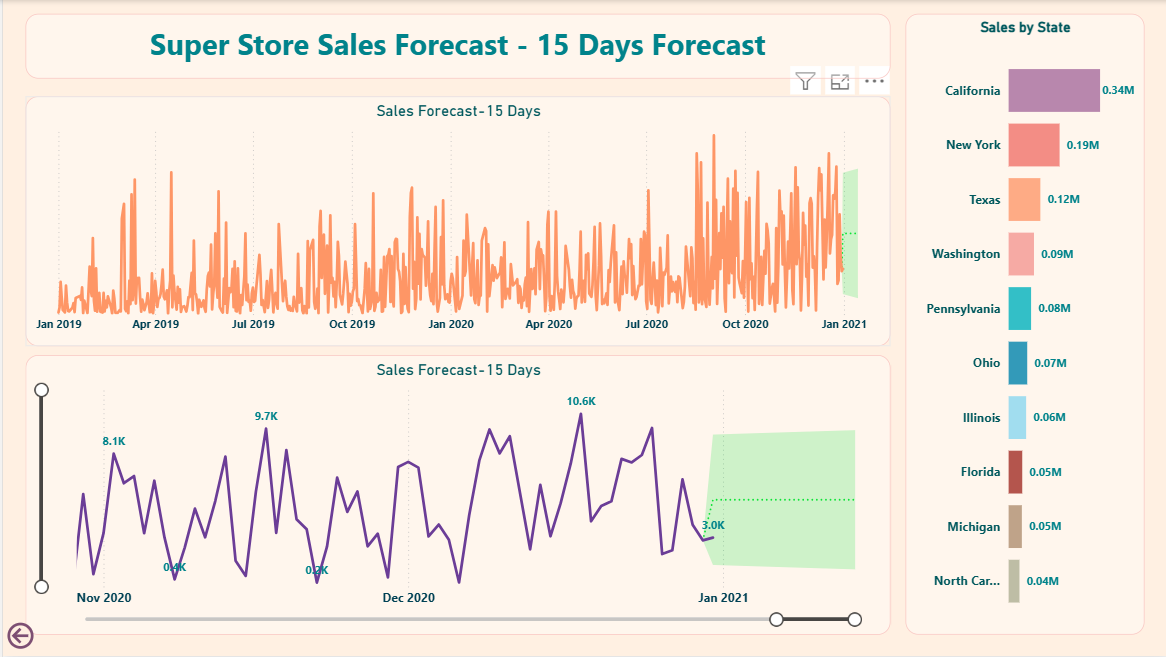

The page's visual inventory and layout, read from the dashboard file:
{"tool":"powerbi","page":{"name":"Page 2","canvas":[1280,720],"ordinal":1},"visuals":[{"type":"lineChart","title":"Sales Forecast-15 Days","fields":{"Y":["Sum(Sheet1.Sales)"],"Category":["Sheet1.Order Date"]},"box":[24.7,105.7,949.6,274.4],"z":0},{"type":"lineChart","title":"Sales Forecast-15 Days","fields":{"Y":["Sum(Sheet1.Sales)"],"Category":["Sheet1.Order Date"]},"box":[24.7,389.7,949.6,307.4],"z":1000},{"type":"clusteredBarChart","title":"Sales by State","fields":{"Category":["Sheet1.State"],"Y":["Sum(Sheet1.Sales)"]},"box":[990.7,15.1,262.1,682],"z":2000},{"type":"textbox","box":[24.7,15.1,949.6,71.4],"z":3000},{"type":"actionButton","box":[0,677.9,38.4,39.8],"z":4000}]}

Visuals, with their boxes in screenshot pixels (x1, y1, x2, y2), scaled from the page's 1280x720 canvas onto the 1166x657 screenshot:
"Sales Forecast-15 Days" lineChart: x1=23 y1=96 x2=888 y2=347
"Sales Forecast-15 Days" lineChart: x1=23 y1=356 x2=888 y2=636
"Sales by State" clusteredBarChart: x1=902 y1=14 x2=1141 y2=636
textbox: x1=23 y1=14 x2=888 y2=79
actionButton: x1=0 y1=619 x2=35 y2=655
